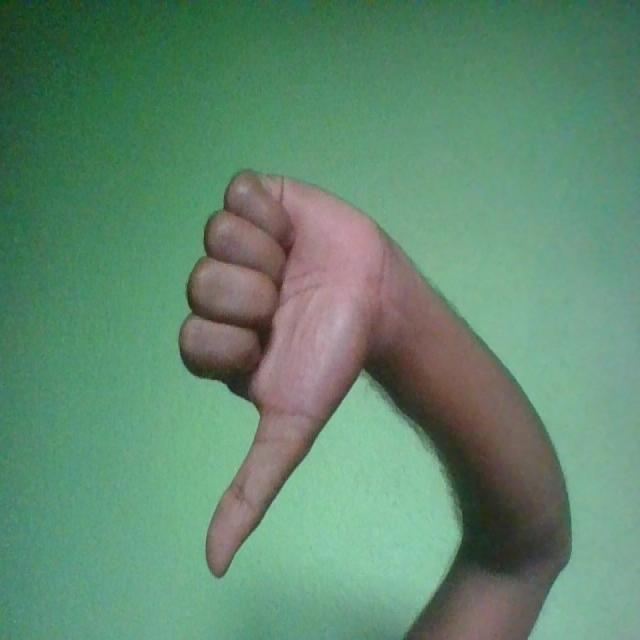Dislike: (179, 167, 388, 579)
